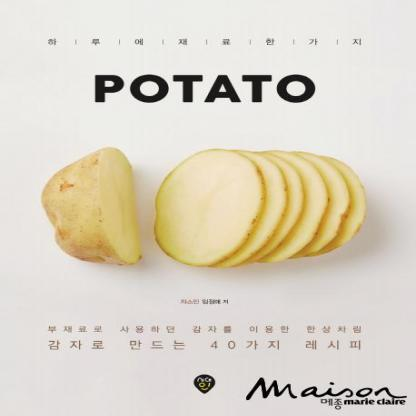potato: (36, 136, 146, 275)
